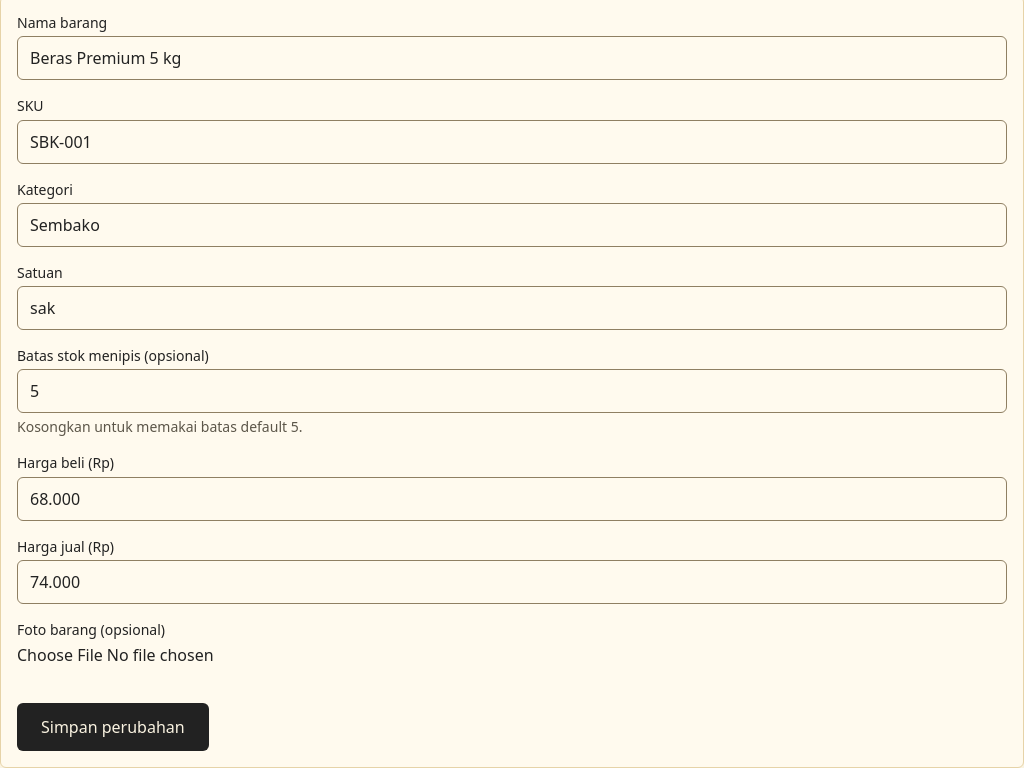
Test: EditProductPage › menyimpan tanpa perubahan menampilkan pesan dan tidak mengubah data
The width and height of the screenshot is (1024, 768).
(page scrolled)
Click the button "Simpan perubahan" at [113, 727], box 17,703 -> 209,751
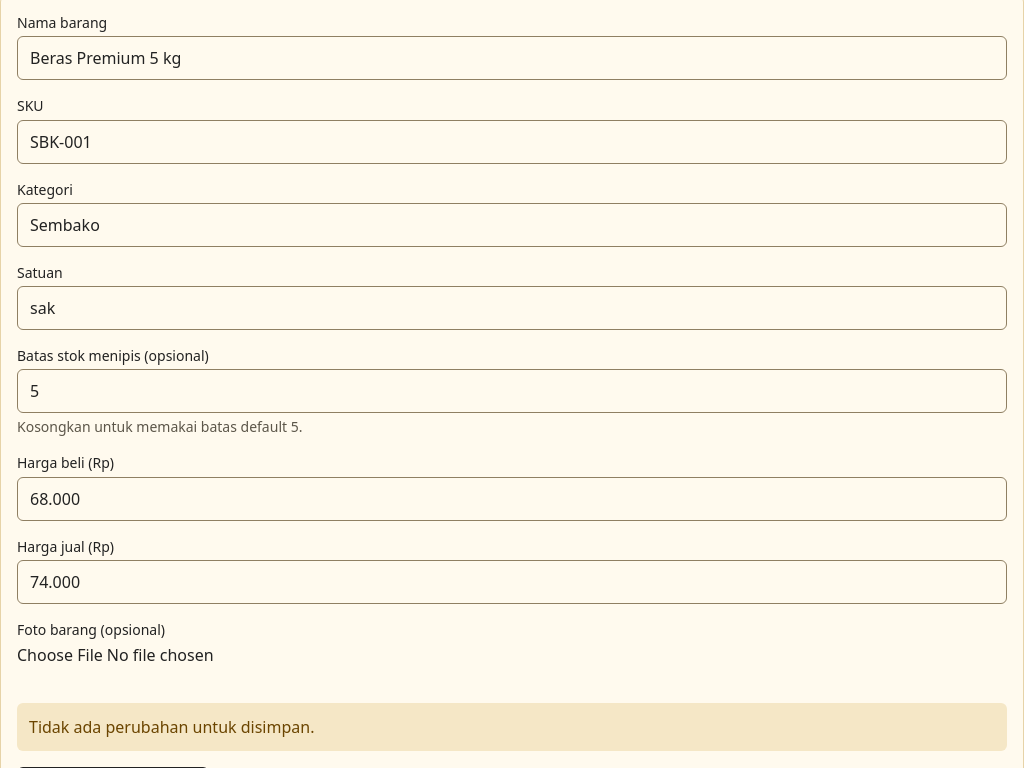
Expected: the message reads "Tidak ada perubahan untuk disimpan.", 29,716 -> 314,738
